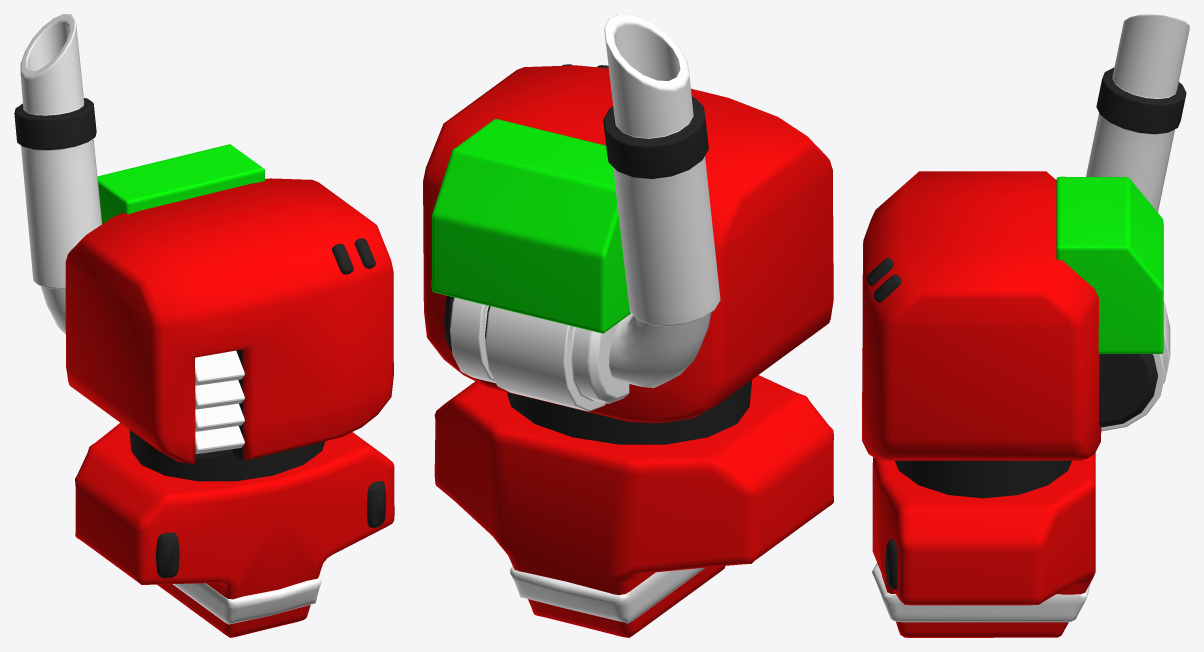
Rendered from Drill_Body.fbx.
3 renders of one model, left to right at view 1: azimuth 30°, elevation 25°; view 2: azimuth 150°, elevation 25°; view 3: azimuth 270°, elevation 25°, orthographic. The views are drawn at different scales.
Visible parts, largest first — view 1: Drill_Body; view 2: Drill_Body; view 3: Drill_Body.
Part boxes in pixels (box(x1,y1,x2,y2)): Drill_Body: box(14, 14, 394, 637); Drill_Body: box(423, 14, 833, 637); Drill_Body: box(862, 14, 1189, 637).
Bounding box in the file's own units: 39.27 × 77.58 × 40.57.
